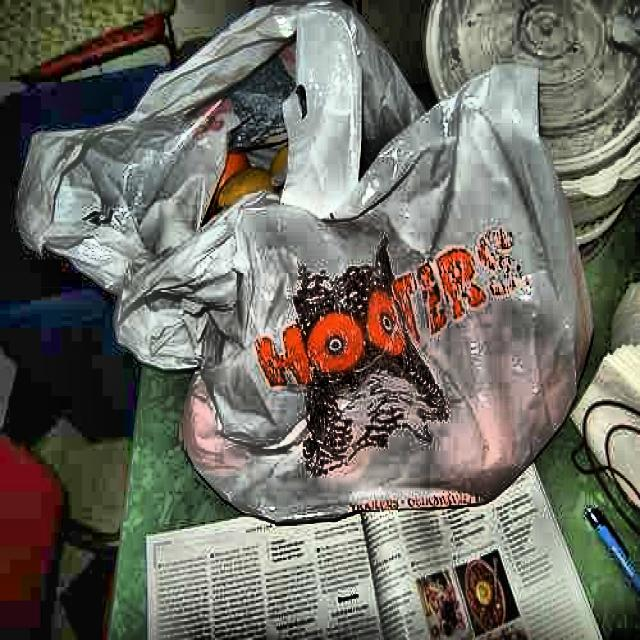Plastic: (146, 182, 612, 516), (17, 21, 454, 288)
